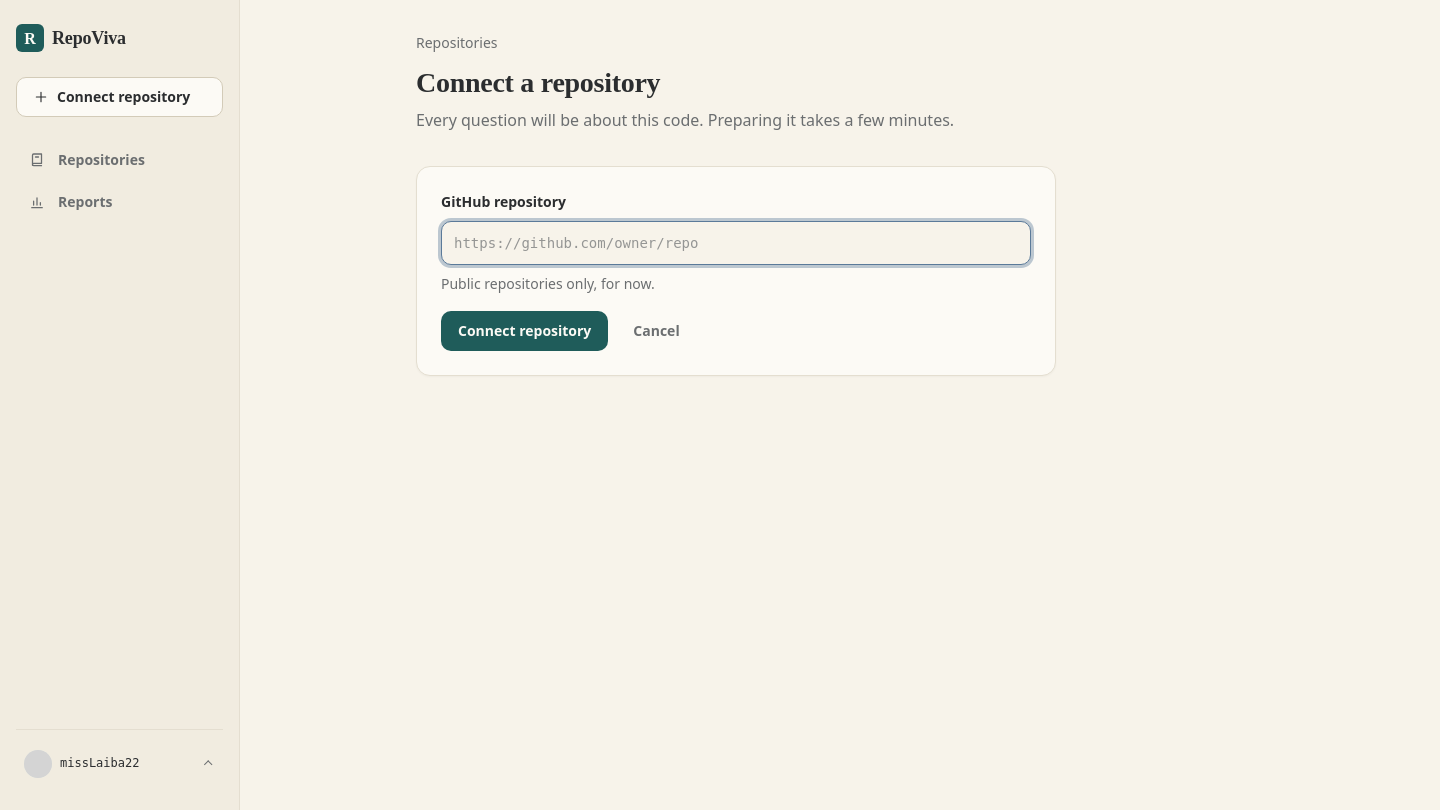
it: connect repository › asks for a link when submitted empty
This screenshot has width=1440, height=810.
What coordinates should you click on to do the following:
click the button "Connect repository"
I would click on:
 (525, 331)
Its box is [441,311,608,351].
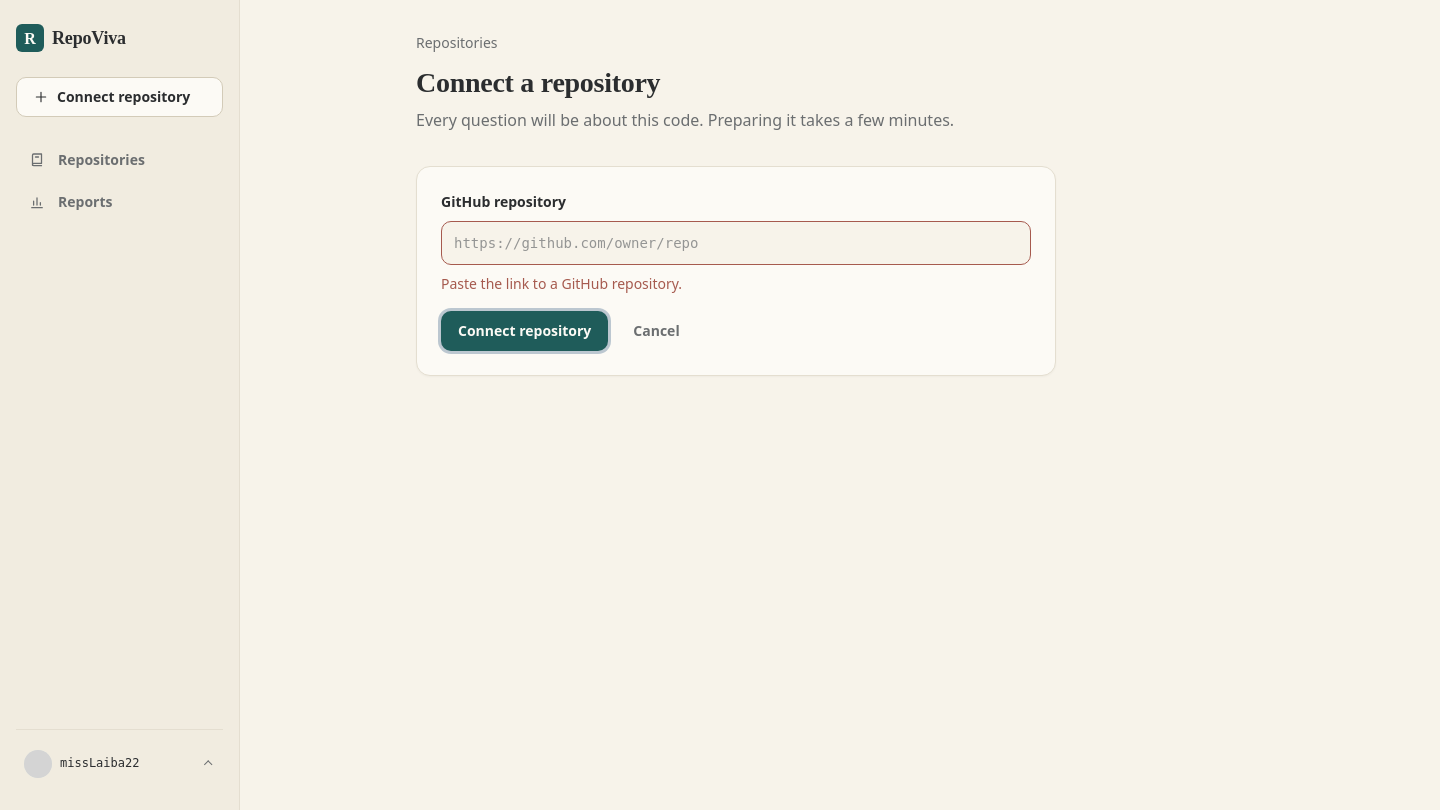
Expected: the message shows "Paste the link", [441,274,682,293]
